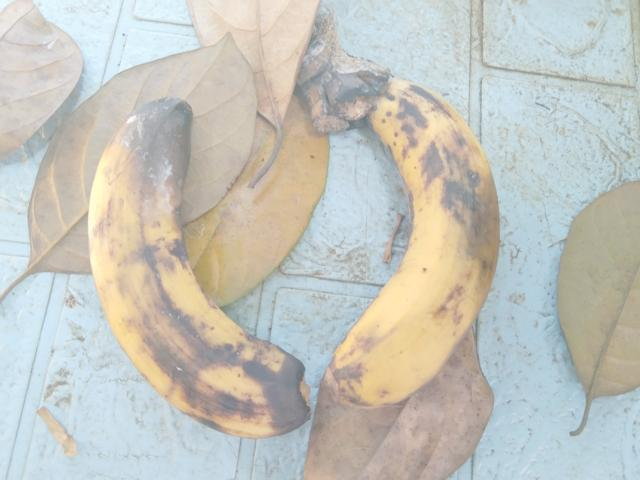overripe: (77, 79, 302, 442), (321, 63, 520, 442)
